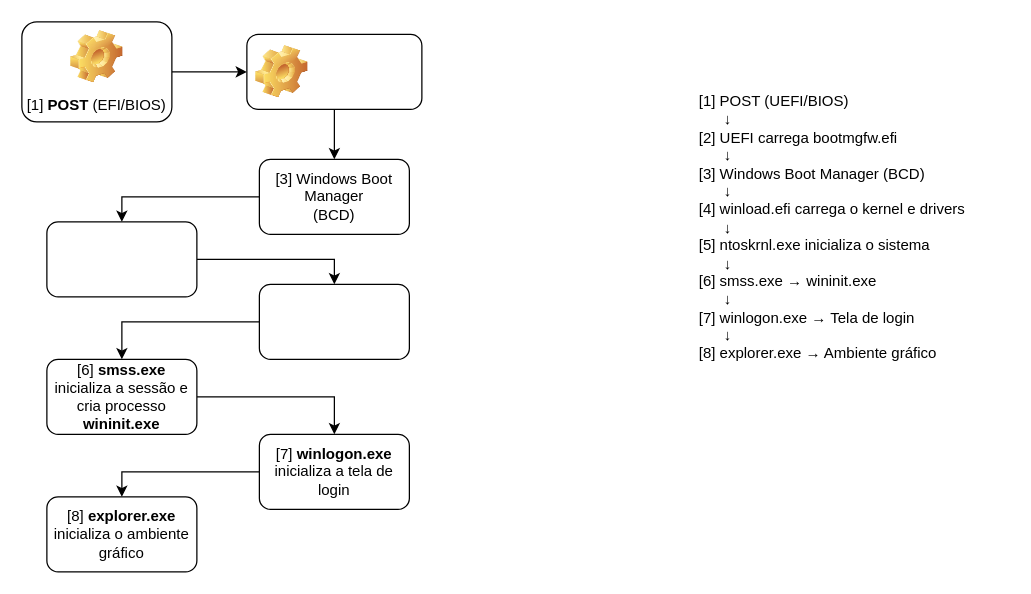
The diagram is 1031 pixels wide and 594 high, and some of its shapes have lost their labels. Here are the shapes that lost their labels. From the top down, the box of each, then its label:
(246, 33, 422, 109): [2] EFI carrega bootmgfw.efi
(46, 221, 197, 297): [4] winload.efi ou winload.exe carrega o kernel e drivers
(258, 283, 409, 359): [5] ntoskrnl.exe inicializa o sistema
